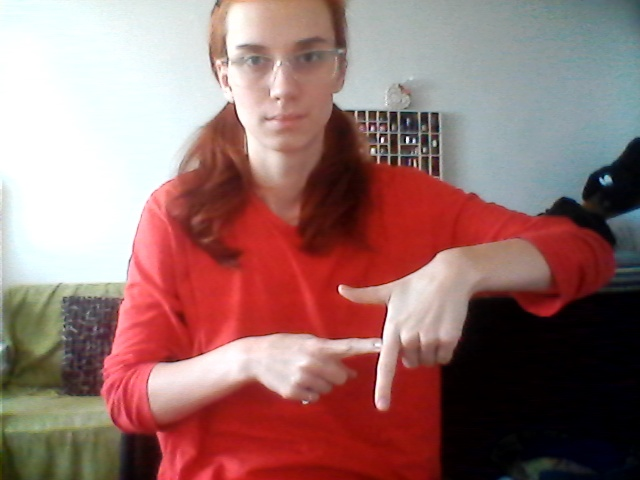f: (267, 277, 469, 431)
